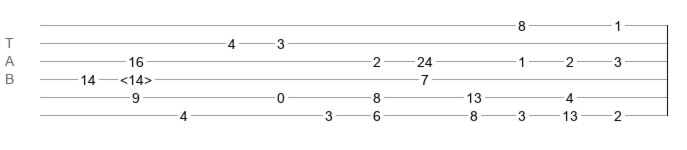0: (277, 90, 285, 100)
1: (518, 54, 526, 64), (614, 18, 622, 28)
13: (466, 90, 482, 100), (562, 108, 578, 118)
14: (80, 72, 96, 82)
16: (128, 54, 144, 64)
2: (373, 54, 381, 64), (566, 54, 574, 64), (614, 108, 622, 118)
24: (417, 54, 433, 64)
3: (277, 36, 285, 46), (325, 108, 333, 118), (518, 108, 526, 118), (614, 54, 622, 64)
4: (180, 108, 188, 118), (228, 36, 236, 46), (566, 90, 574, 100)
6: (373, 108, 381, 118)
7: (421, 72, 429, 82)
8: (373, 90, 381, 100), (470, 108, 478, 118), (518, 18, 526, 28)
9: (132, 90, 140, 100)
harmonic: (120, 72, 152, 82)
